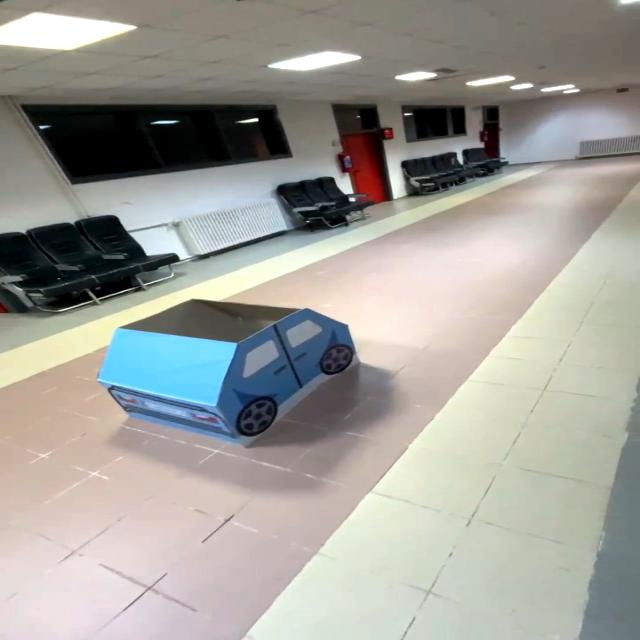blue_car: (85, 287, 373, 458)
